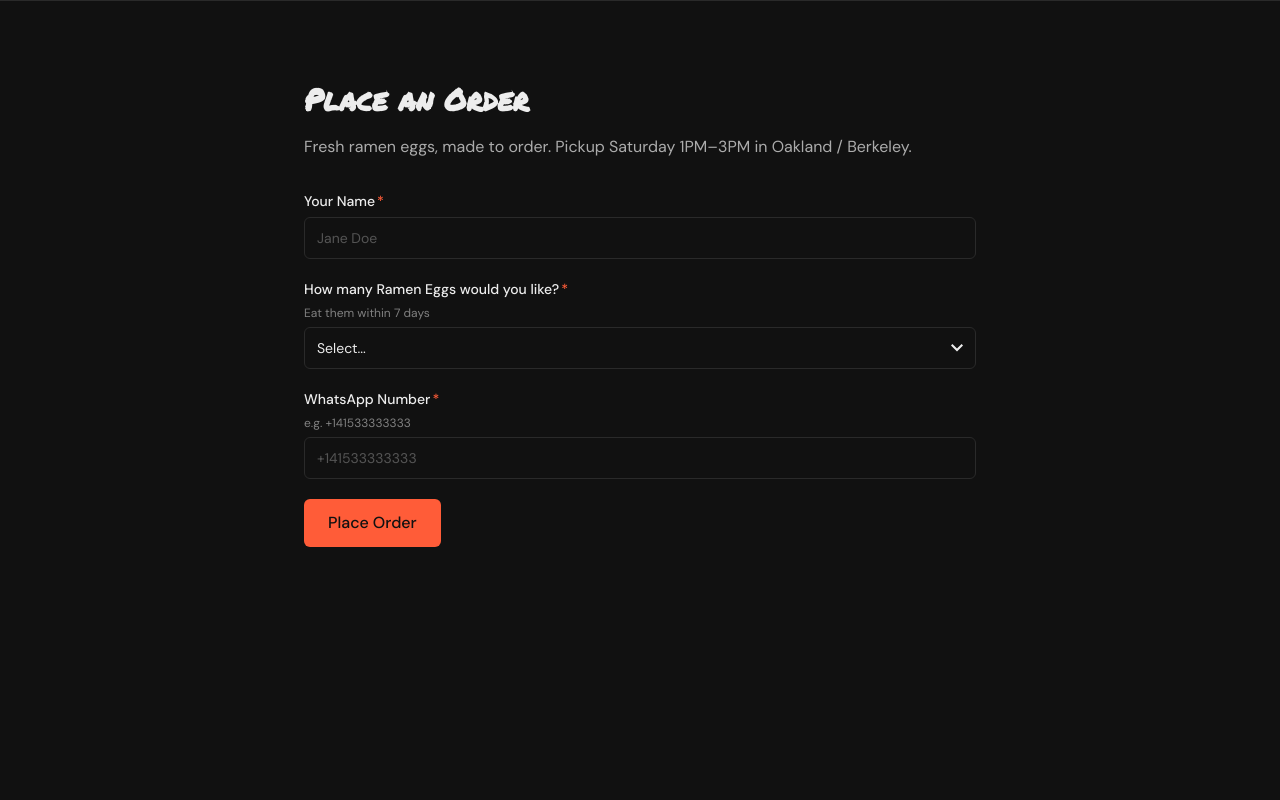
Test: OrderForm — submission › shows success confirmation after successful submission
Type "Test User" into the field with placeholder "Jane Doe" at (640, 238), box [304,216,976,258]
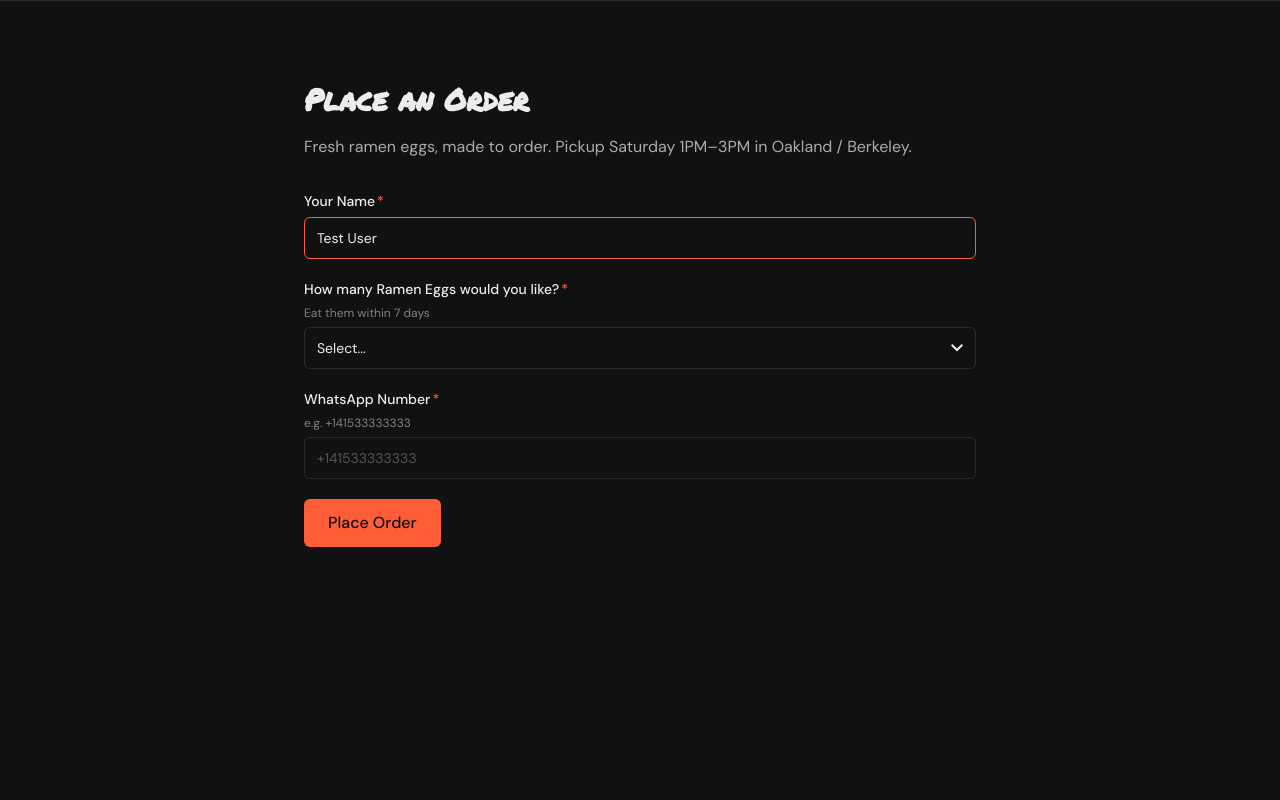
Select "10" in the dropdown at (640, 348), box [304,326,976,368]
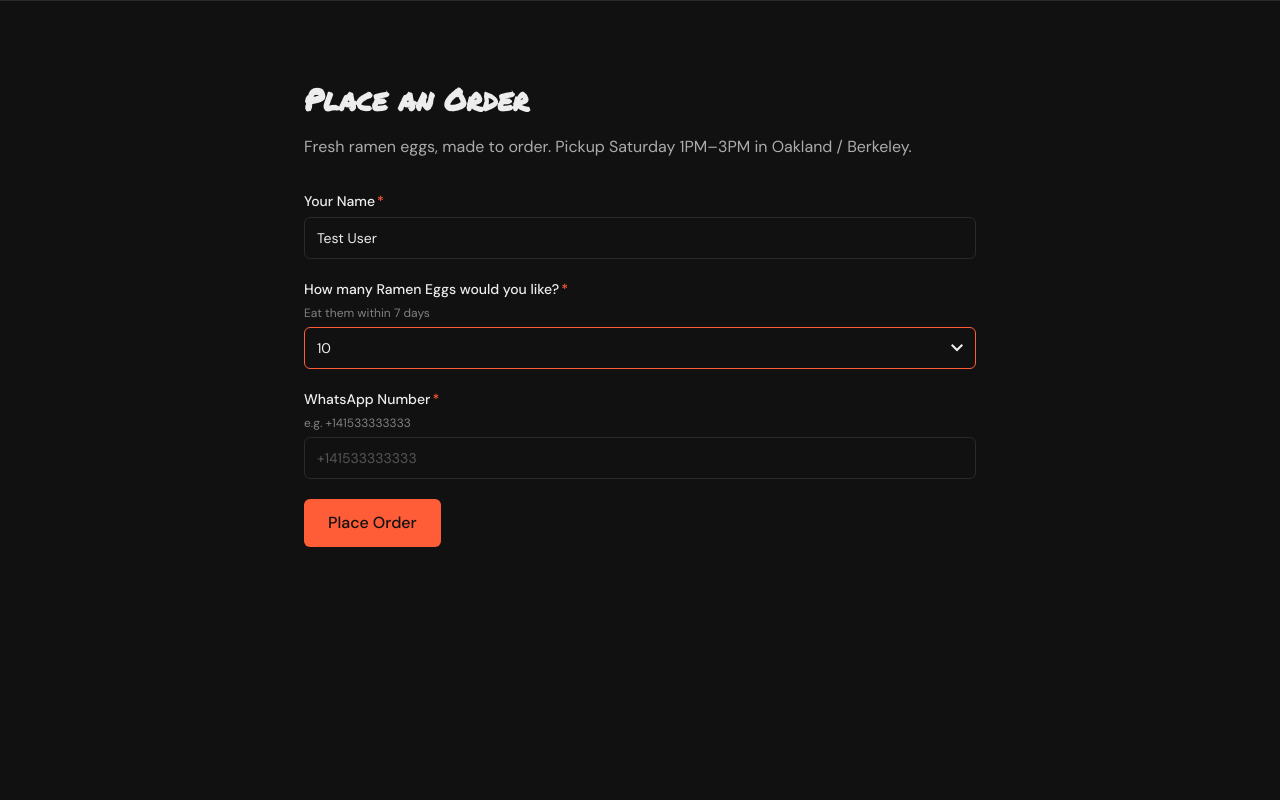
Type "+14155551234" into the field with placeholder "+141533333333" at (640, 458), box [304,436,976,478]
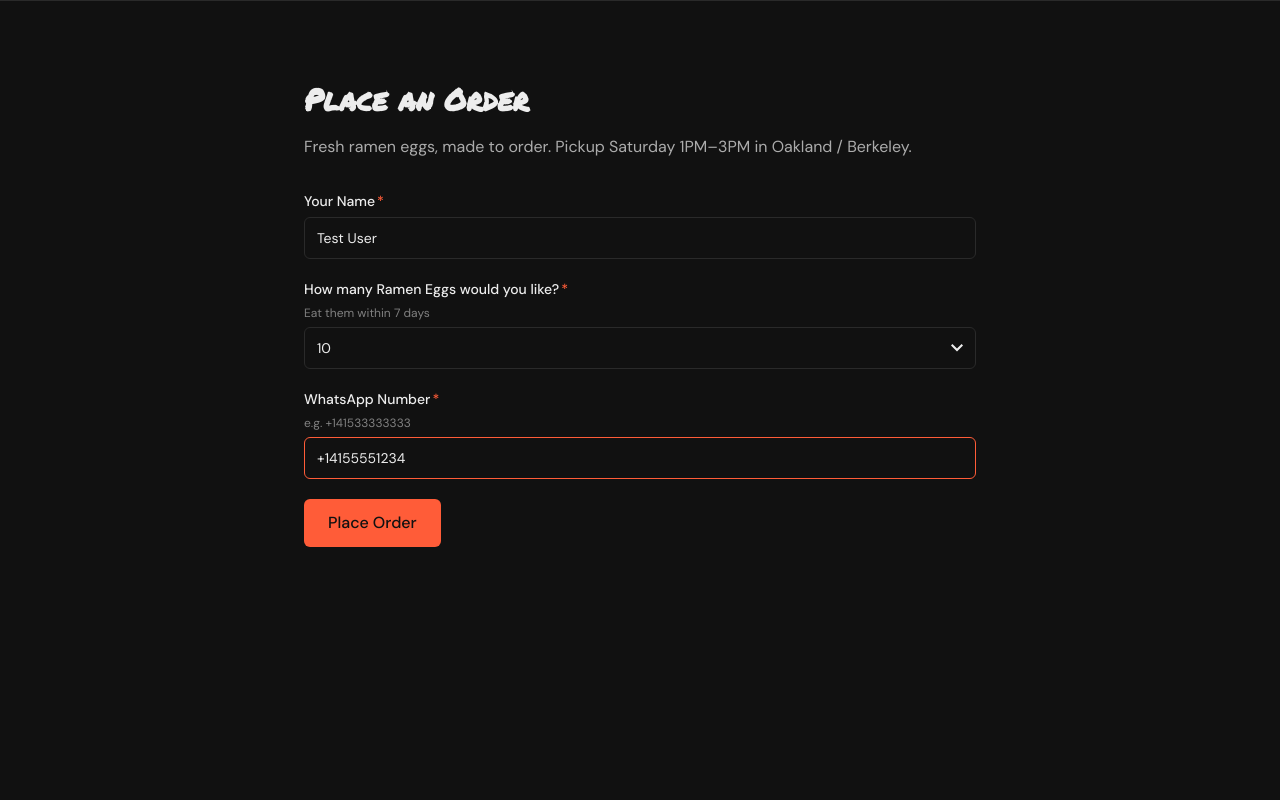
Click the button "Place Order" at (372, 522), box [304,498,441,546]
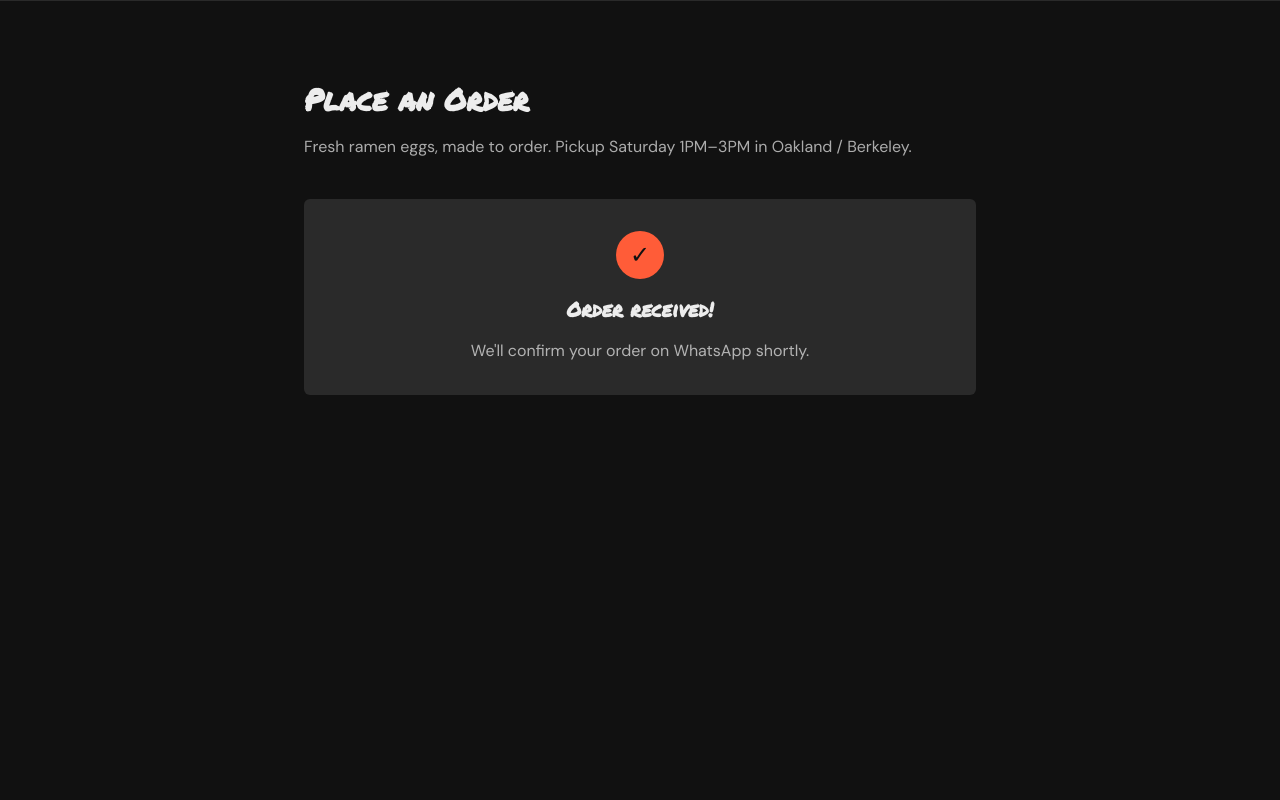
Result: the heading "Order received!" is shown at [566,294,714,322]
Result: the button "Place Order" is gone
